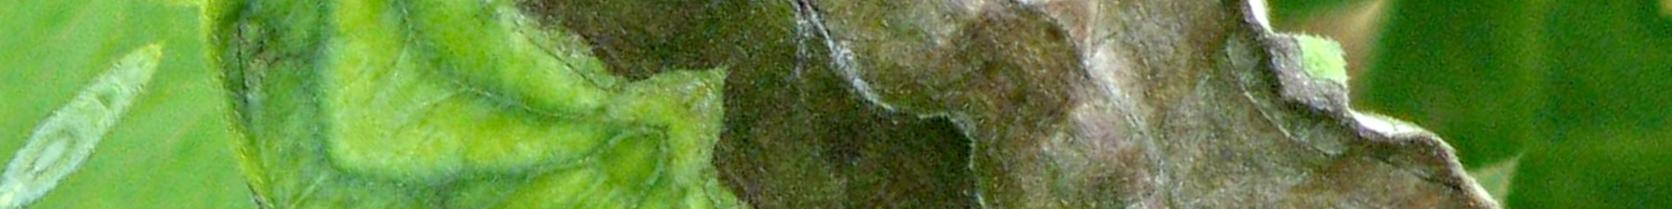Tomato leaf late blight: (226, 0, 1420, 209)
